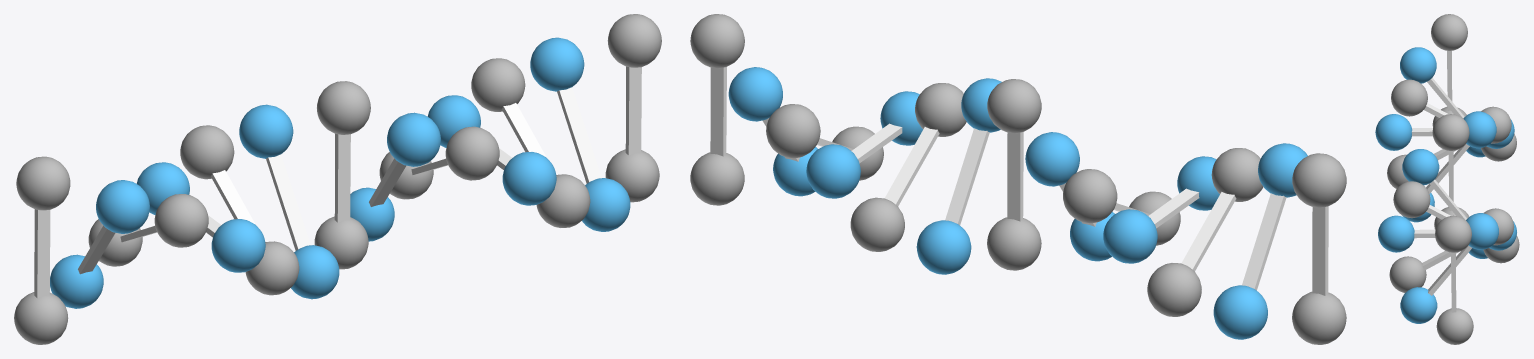
Rendered from RNA.fbx.
3 views of the same model, side by side, from view 1: azimuth 30°, elevation 25°; view 2: azimuth 150°, elevation 25°; view 3: azimuth 270°, elevation 25° (orthographic). The views are drawn at different scales.
Visible parts, largest first — view 1: _1303, Component_82_20, Component_82_7, Component_82_9, Component_82_23, Component_82_18, Component_82_13, Component_82_15, Component_82, Component_82_11, Component_82_4, Component_82_25 (+15 smaller); view 2: _1303, Component_82_12, Component_82_8, Component_82_21, Component_82_6, Component_82_14, Component_82_15, Component_82_20, Component_82, Component_82_10, Component_82_22, Component_82_19 (+15 smaller); view 3: _1303, Component_82_20, Component_82, Component_82_7, Component_82_9, Component_82_15, Component_82_18, Component_82_23, Component_82_2, Component_82_3, Component_82_11, Component_82_13 (+15 smaller).
Part boxes in pixels (box(x1,y1,x2,y2)): _1303: box(34, 66, 641, 298); Component_82_20: box(16, 156, 70, 210); Component_82_7: box(502, 152, 556, 205); Component_82_9: box(445, 126, 499, 180); Component_82_23: box(211, 219, 265, 272); Component_82_18: box(154, 194, 208, 247); Component_82_13: box(96, 180, 149, 233); Component_82_15: box(317, 81, 370, 134); Component_82: box(607, 14, 661, 67); Component_82_11: box(387, 112, 440, 166); Component_82_4: box(530, 37, 584, 91); Component_82_25: box(239, 104, 293, 158); _1303: box(710, 67, 1328, 295); Component_82_12: box(916, 220, 971, 274); Component_82_8: box(806, 144, 860, 198); Component_82_21: box(1103, 209, 1157, 263); Component_82_6: box(766, 104, 820, 158); Component_82_14: box(1213, 285, 1267, 339); Component_82_15: box(987, 79, 1041, 133); Component_82_20: box(1292, 153, 1346, 207); Component_82: box(690, 14, 744, 68); Component_82_10: box(850, 197, 904, 251); Component_82_22: box(1063, 169, 1117, 223); Component_82_19: box(1147, 263, 1201, 316); _1303: box(1411, 50, 1471, 312); Component_82_20: box(1431, 14, 1467, 50); Component_82: box(1435, 215, 1471, 252); Component_82_7: box(1378, 215, 1414, 252); Component_82_9: box(1393, 181, 1430, 218); Component_82_15: box(1432, 114, 1469, 150); Component_82_18: box(1391, 79, 1427, 116); Component_82_23: box(1375, 114, 1412, 150); Component_82_2: box(1436, 308, 1473, 344); Component_82_3: box(1400, 287, 1437, 323); Component_82_11: box(1402, 149, 1439, 185); Component_82_13: box(1400, 47, 1436, 83).
Bounding box in the file's own units: 4.53 × 1.28 × 1.29.
